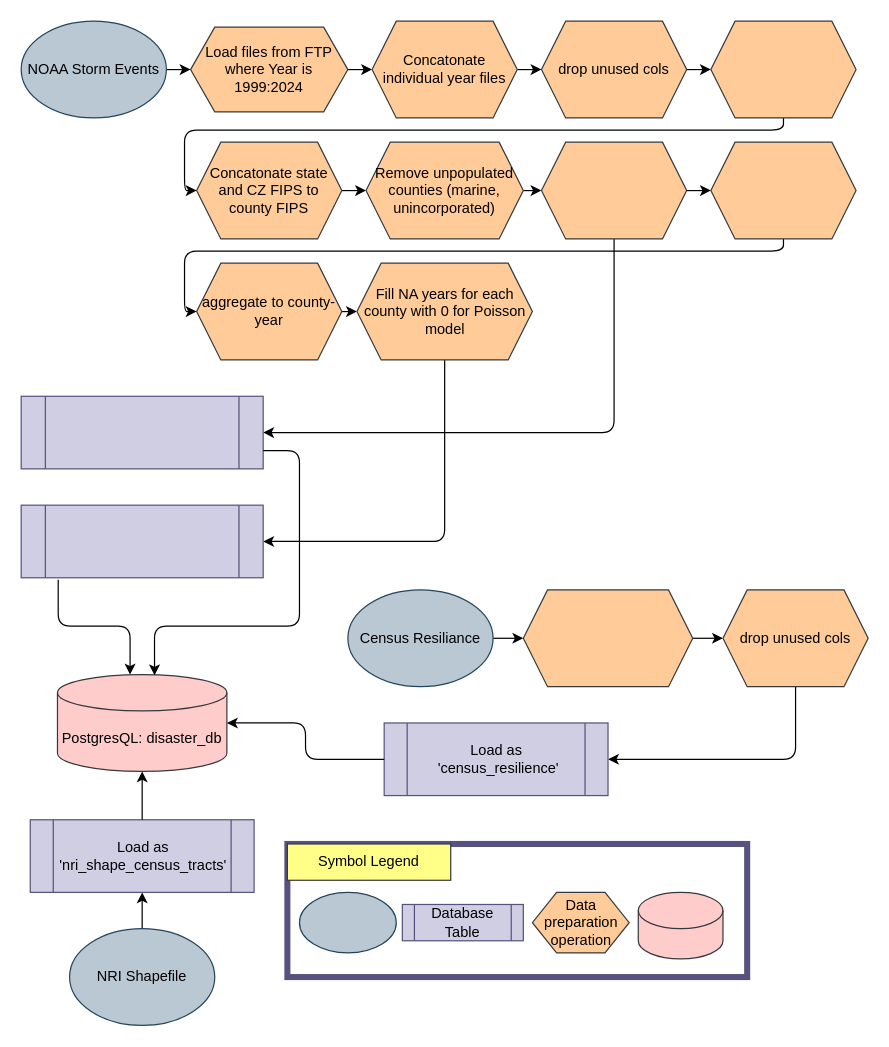
The diagram is 889 pixels wide and 1047 high, and some of its shapes have lost their labels. The box of each missing label's shape, as (x1, y1, x2, y2) in pixels:
Convert datetime to standard DATE: (710, 20, 856, 118)
Data Source: (298, 891, 396, 953)
Database: (637, 891, 723, 959)
Filter for county level FIPS and extract county FIPS digits: (522, 589, 693, 687)
Group by episode ID: (710, 141, 856, 239)
Load as 'NOAA_STORM_EPISODES': (20, 504, 263, 578)
Load as 'NOAA_STORM_EVENTS': (20, 395, 263, 469)
Remove all events where deaths or injuries = 0: (540, 141, 687, 239)
